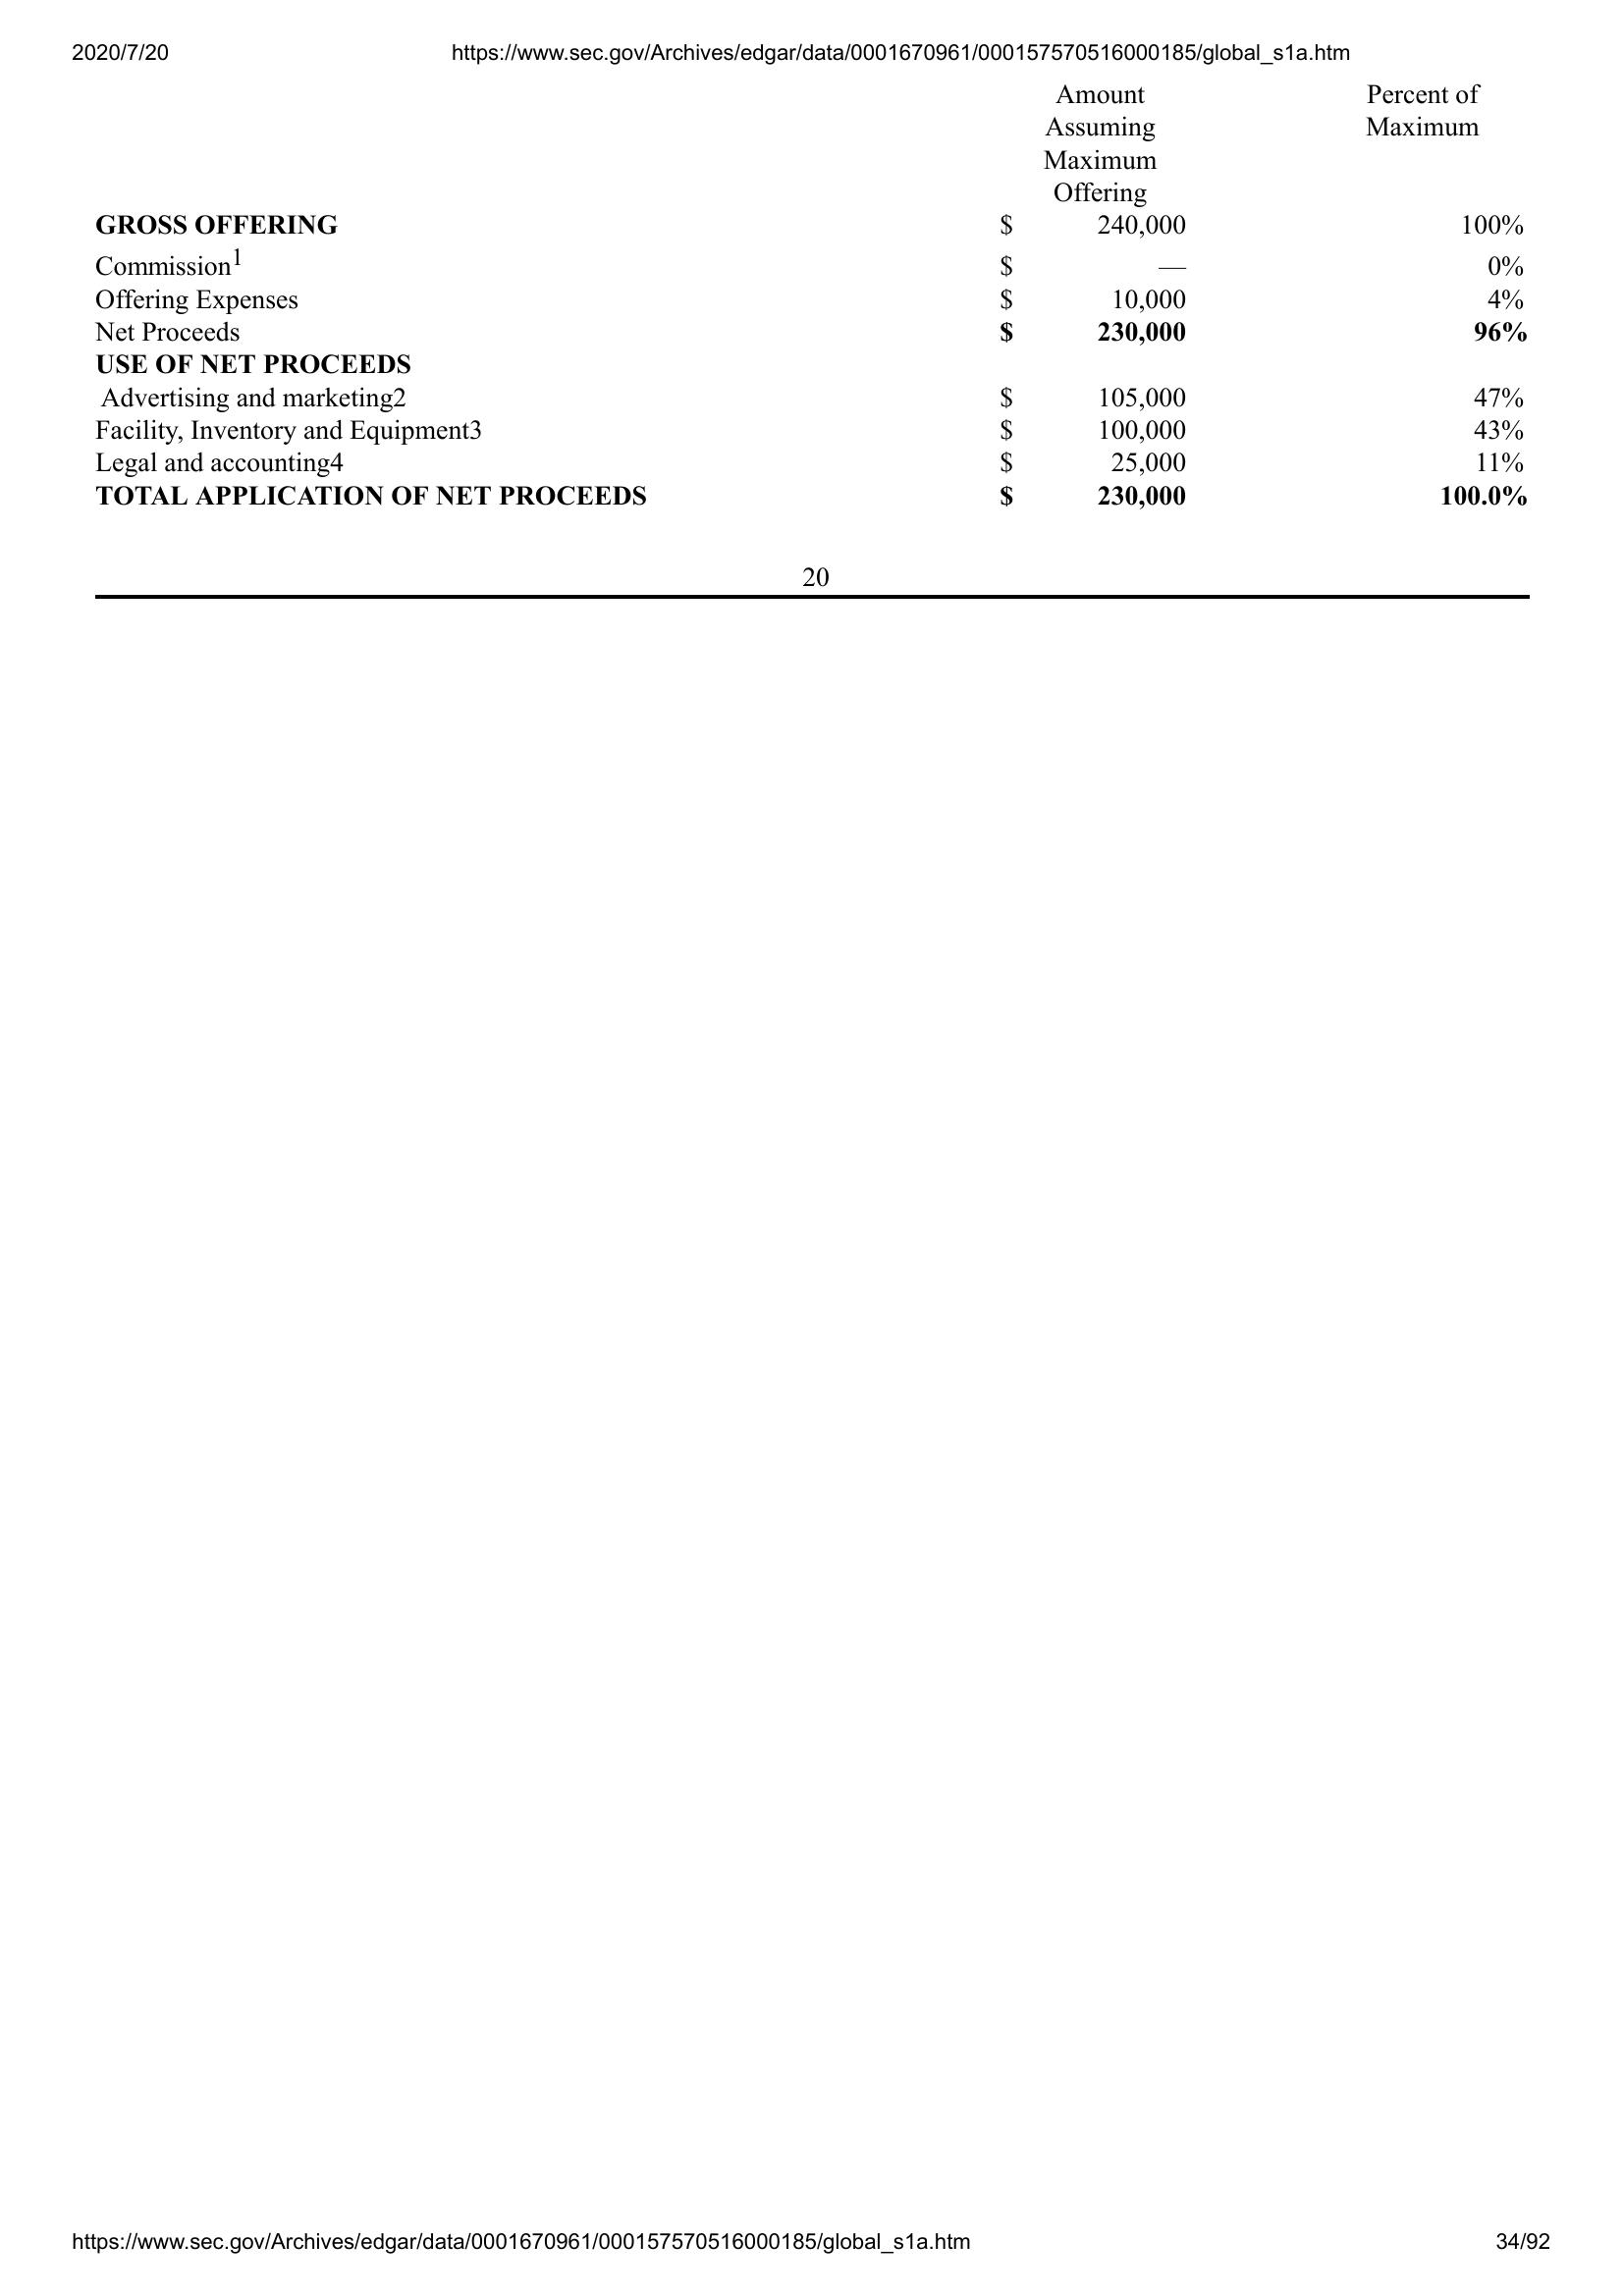table: (79, 79, 1546, 606)
